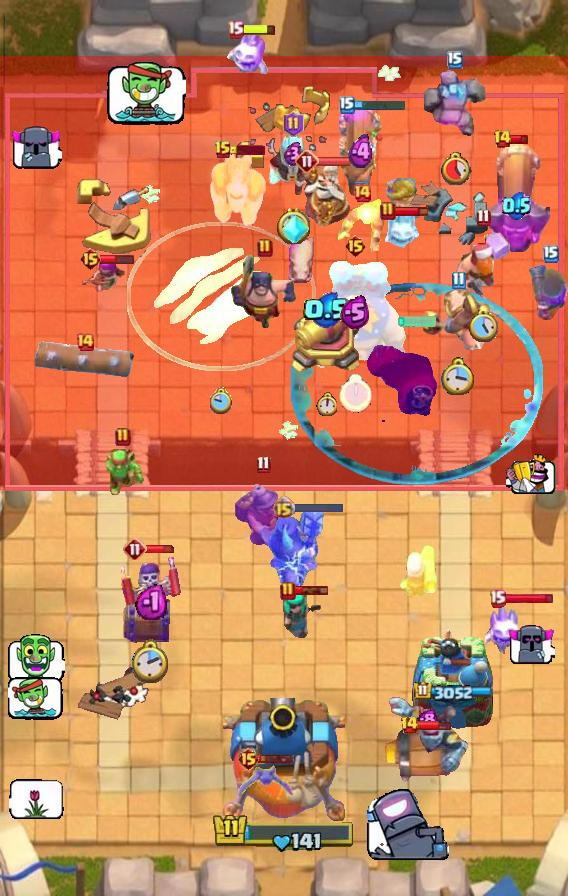archer: (79, 257, 133, 301)
bar: (292, 501, 344, 514), (503, 592, 554, 605), (354, 99, 407, 111), (416, 719, 452, 732), (241, 23, 277, 36), (394, 205, 429, 218), (258, 753, 295, 765), (100, 253, 135, 265), (316, 156, 352, 167), (294, 585, 329, 596), (229, 145, 265, 155), (145, 544, 177, 554), (510, 134, 529, 145)
bar-level: (123, 537, 147, 561), (295, 149, 319, 173), (237, 747, 260, 771), (79, 247, 102, 271), (344, 234, 367, 258), (283, 111, 304, 137), (272, 496, 295, 519), (75, 332, 95, 352), (352, 183, 372, 203), (400, 715, 419, 735), (493, 129, 512, 149), (214, 140, 232, 160), (489, 589, 506, 608), (227, 20, 244, 39), (280, 581, 296, 601), (115, 427, 131, 447), (257, 238, 273, 258), (380, 201, 396, 221), (543, 245, 559, 263), (339, 96, 355, 114), (447, 51, 463, 69), (256, 455, 271, 474), (451, 271, 466, 290), (476, 208, 491, 227)
barbarian-barrel: (383, 724, 463, 784)
bat-evolution: (236, 764, 296, 802)
clock: (132, 639, 170, 685), (441, 357, 475, 395), (339, 374, 372, 413), (277, 207, 310, 244), (439, 151, 472, 185), (469, 310, 498, 342), (210, 387, 233, 414), (316, 392, 337, 416)
elite-barbarian: (384, 176, 420, 223)
elixir: (303, 292, 350, 328), (135, 582, 167, 620), (340, 295, 370, 330), (348, 134, 375, 170), (502, 191, 531, 220), (284, 141, 303, 166), (417, 709, 438, 730)
emote: (367, 789, 453, 864), (106, 62, 186, 126), (7, 634, 65, 683), (8, 676, 64, 722), (10, 125, 62, 171), (9, 779, 64, 819), (506, 454, 556, 494), (508, 623, 555, 665)
executioner: (230, 250, 300, 330)
firecracker: (397, 542, 439, 600)
golemite: (424, 64, 486, 140)
hog: (286, 233, 318, 285)
ice-spirit: (378, 211, 422, 251)
ice-spirit-evolution: (485, 601, 529, 655), (227, 27, 269, 77)
ice-spirit-evolution-symbol: (281, 212, 309, 246)
ice-wizard: (264, 131, 322, 199)
king-tower: (223, 698, 345, 826)
king-tower-bar: (212, 812, 356, 854)
lumberjack: (453, 227, 513, 301)
mega-minion: (385, 694, 469, 772), (207, 148, 269, 228)
miner: (232, 476, 294, 548)
musketeer: (528, 264, 568, 320)
queen-tower: (411, 627, 495, 731)
rascal-girl: (276, 591, 322, 649)
spear-goblin: (102, 447, 144, 497)
the-log: (35, 341, 135, 377)
tower-bar: (414, 681, 493, 701)
wizard: (335, 193, 390, 255)
